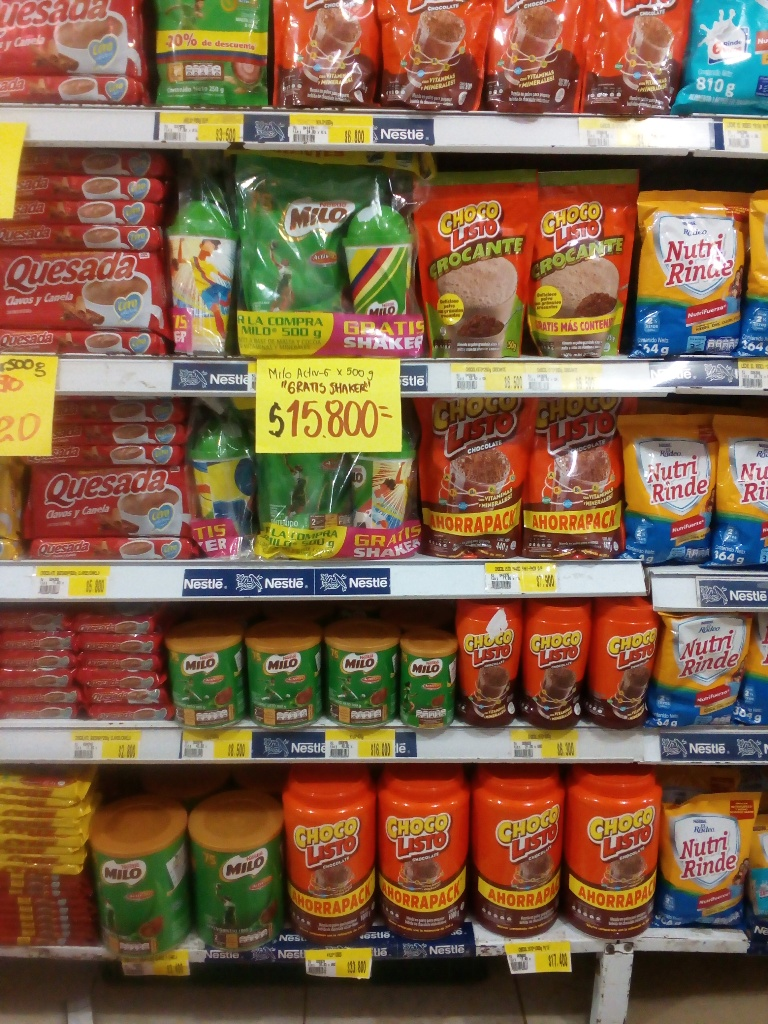COL0170102DYP25000: (416, 181, 525, 367)
COL0170103DYP36000: (485, 4, 587, 108)
COL0170103DYP44000: (430, 385, 533, 552)
COL0170103TRR00100: (468, 764, 566, 941)
COL0170103TRR30000: (593, 602, 655, 732)
COL0170203DYP25000: (158, 6, 284, 110)
COL0170203DYP50000: (252, 404, 362, 550)
COL0170203LAT20000: (396, 635, 468, 738)
COL0170203LAT40000: (162, 616, 252, 726)
